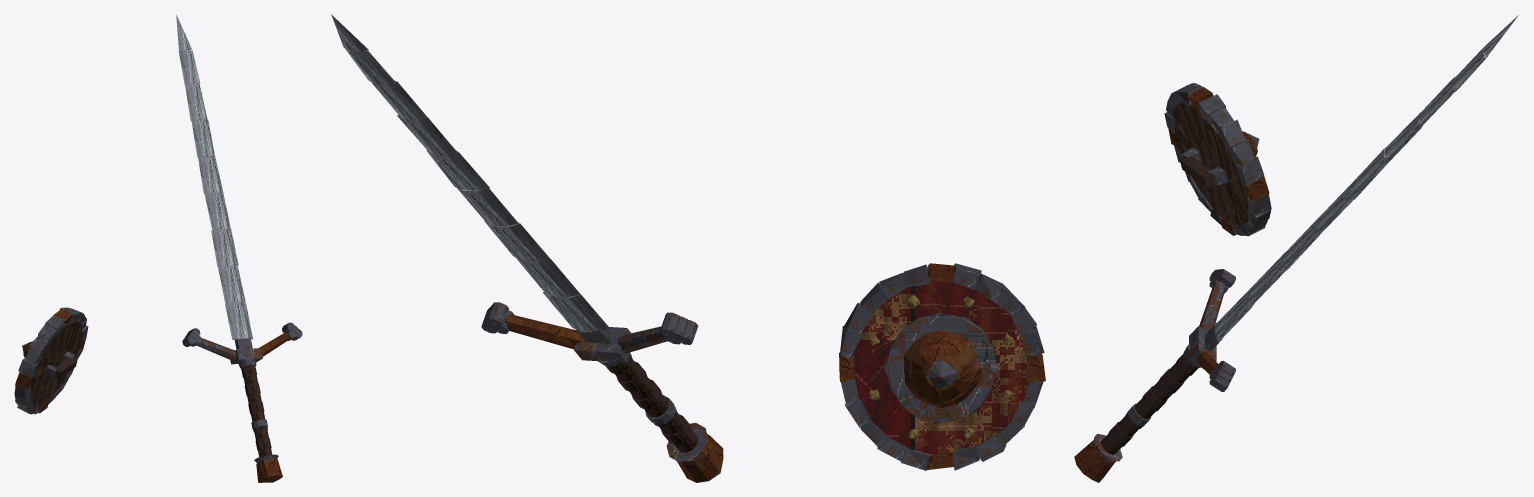
The model's file is viewmodel.glb.
3 renders of one model, left to right at view 1: azimuth 30°, elevation 25°; view 2: azimuth 150°, elevation 25°; view 3: azimuth 270°, elevation 25°, orthographic. The views are drawn at different scales.
Parts seen in each view (by area): view 1: Sword, Shield; view 2: Shield, Sword; view 3: Sword, Shield.
Boxes of the visible parts, left/top/right/bottom form: Sword: left=176, top=15, right=302, bottom=482; Shield: left=14, top=307, right=88, bottom=414; Shield: left=839, top=263, right=1045, bottom=470; Sword: left=331, top=14, right=723, bottom=482; Sword: left=1074, top=15, right=1518, bottom=482; Shield: left=1164, top=83, right=1271, bottom=236.
Size of the model in its own units: 1.08 by 1.21 by 0.9732.
1 material, 1 textured.
